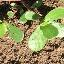Purslane: (0, 0, 64, 53)
